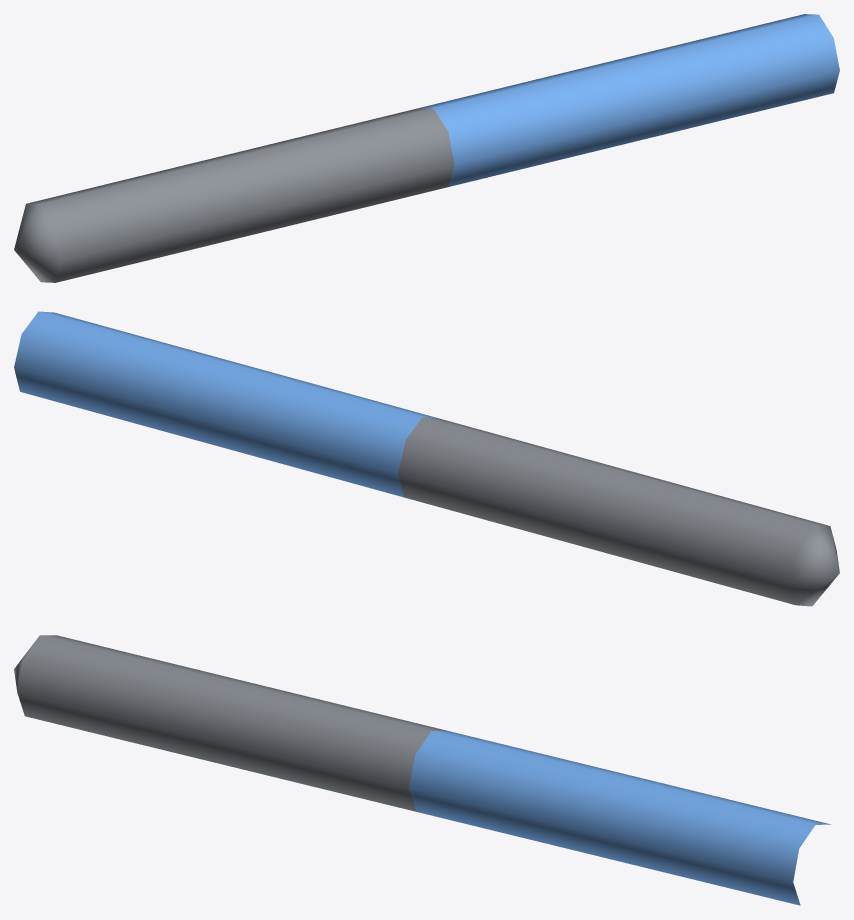
File: sigma_apap_C4N.glb
3 renders of one model, top to bottom at view 1: azimuth 30°, elevation 25°; view 2: azimuth 150°, elevation 25°; view 3: azimuth 330°, elevation 25°, orthographic. The views are drawn at different scales.
Parts seen in each view (by area): view 1: node-geom14.001; view 2: node-geom14.001; view 3: node-geom14.001.
Boxes of the visible parts, x1,y1,x2,y2 form: node-geom14.001: (14,14,839,282); node-geom14.001: (14,311,839,606); node-geom14.001: (14,635,831,905).
Bounding box in the file's own units: 1.47 × 0.1607 × 0.1791.
